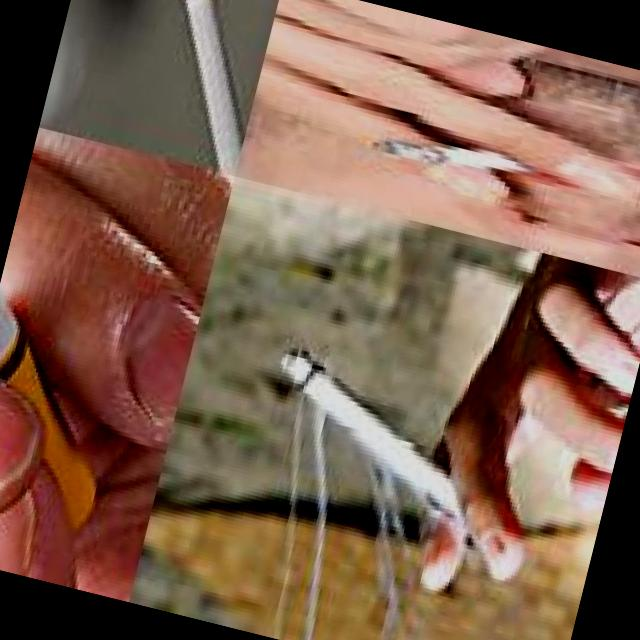smoke: (246, 342, 482, 519), (122, 0, 279, 175), (368, 121, 547, 193)
